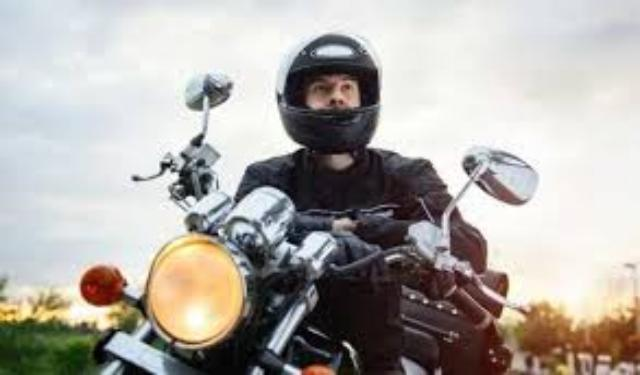helm: (276, 27, 385, 158)
motor: (73, 65, 544, 375)
